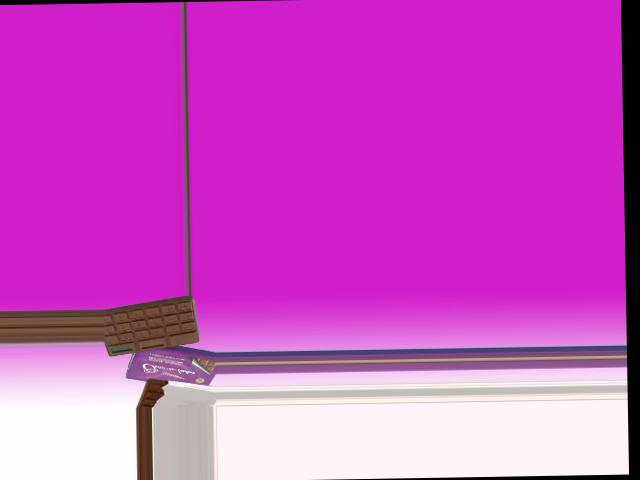chocolate: (106, 294, 198, 358)
